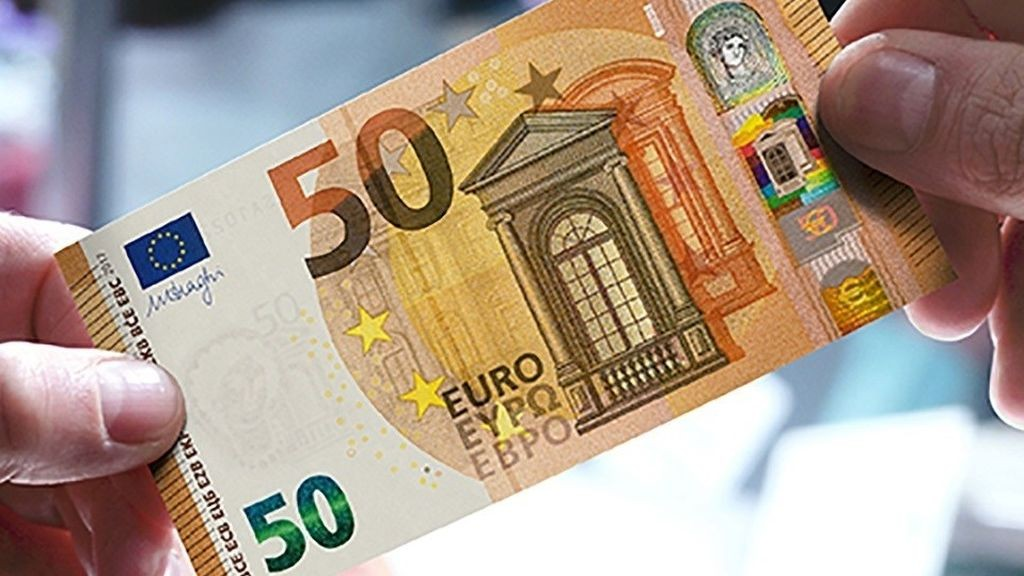billete: (52, 1, 962, 575)
